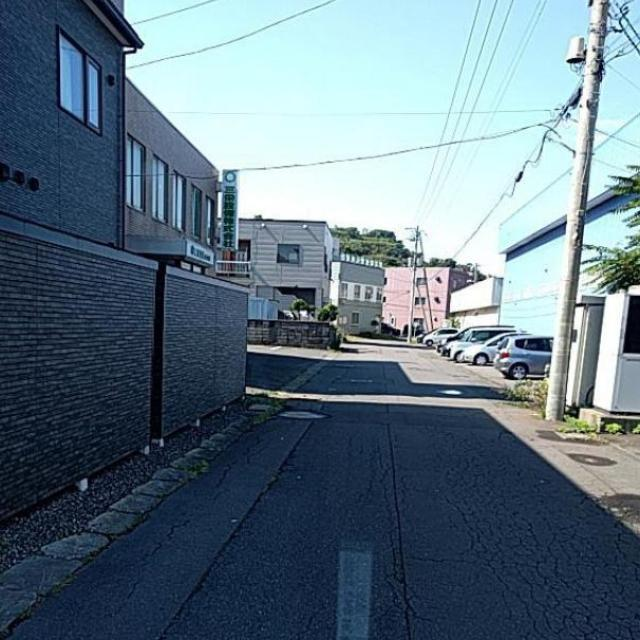Memanjang: (380, 417, 430, 640)
Retak Buaya: (455, 462, 640, 640)
Sambungan: (0, 403, 309, 640)
